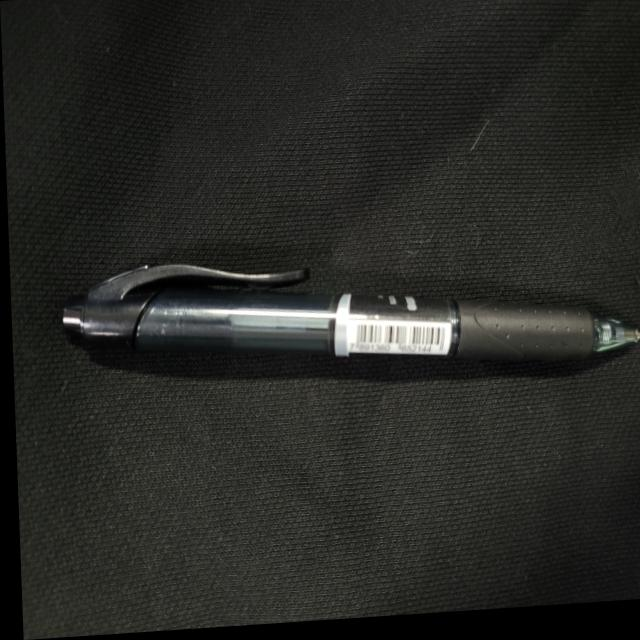caneta: (42, 226, 640, 409)
